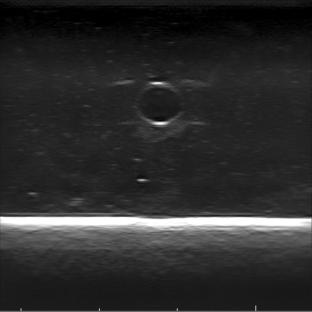vessel: (133, 79, 184, 127)
